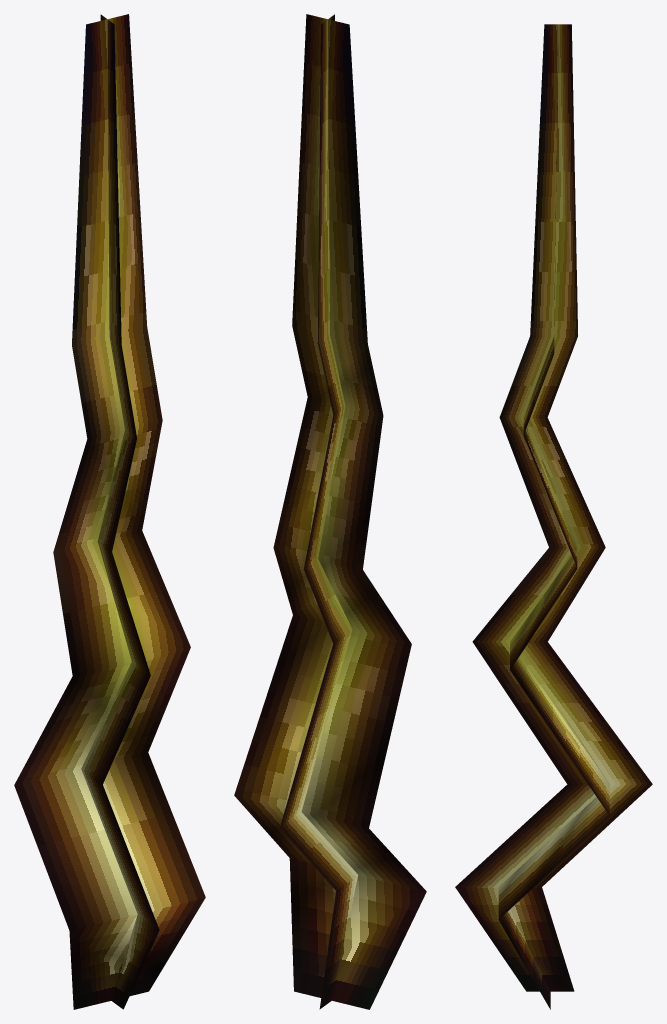
The model's file is ArrowThunder01.glb.
The picture shows the model from 3 angles, left to right: view 1: azimuth 30°, elevation 25°; view 2: azimuth 150°, elevation 25°; view 3: azimuth 270°, elevation 25°; orthographic projection.
Parts seen in each view (by area): view 1: model_ArrowThunder01; view 2: model_ArrowThunder01; view 3: model_ArrowThunder01.
Boxes of the visible parts, box(x1,y1,x2,y2) form: model_ArrowThunder01: box(14, 14, 205, 1009); model_ArrowThunder01: box(234, 14, 426, 1009); model_ArrowThunder01: box(455, 24, 652, 1009).
Bounding box in the file's own units: 0.3041 × 2.09 × 0.3866.
Materials: 1 (1 with a texture image).
